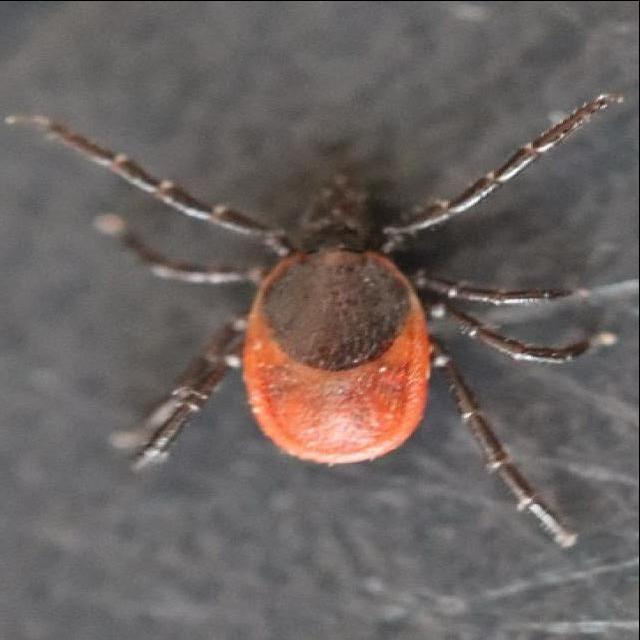Ixodes Ricinus-F: (5, 92, 640, 550)
